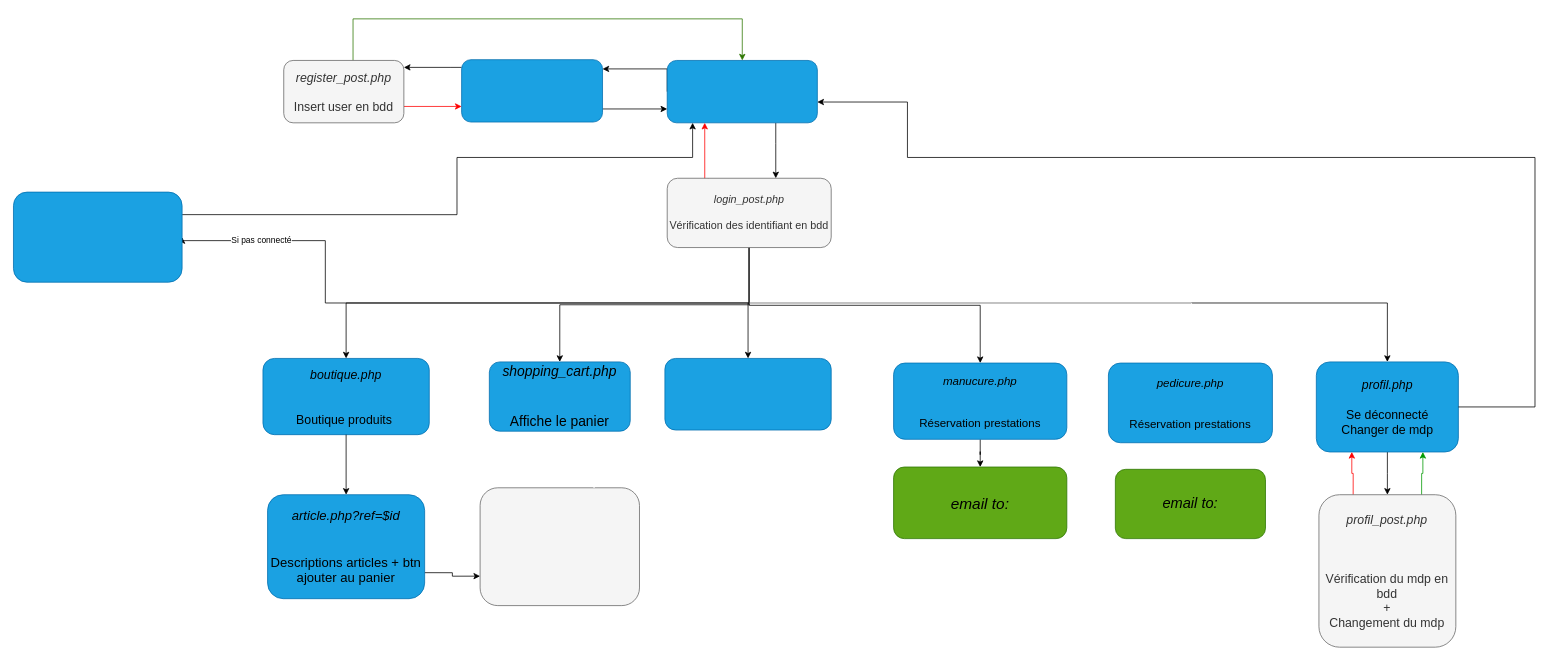
This 1555x661 diagram has some shape labels left out. The shapes that lost their labels are listed below. From the top down, each one's centre as x and y in pixels, then its label:
At point 532,90: "register.php Formulaire d'inscription".
At point 741,91: "login.php Formulaire de connexion".
At point 97,236: "404error.php Redirige sur login.php apres 3s".
At point 747,394: "home.php Page principal du site".
At point 559,546: "shopping_cart_post.php Regroupement des fonctions nécessaires au panier.".
